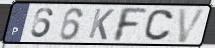6: (58, 6, 85, 42), (30, 7, 55, 40)
C: (142, 8, 175, 42)
F: (113, 6, 149, 43)
K: (86, 7, 116, 41)
V: (177, 7, 209, 44)
